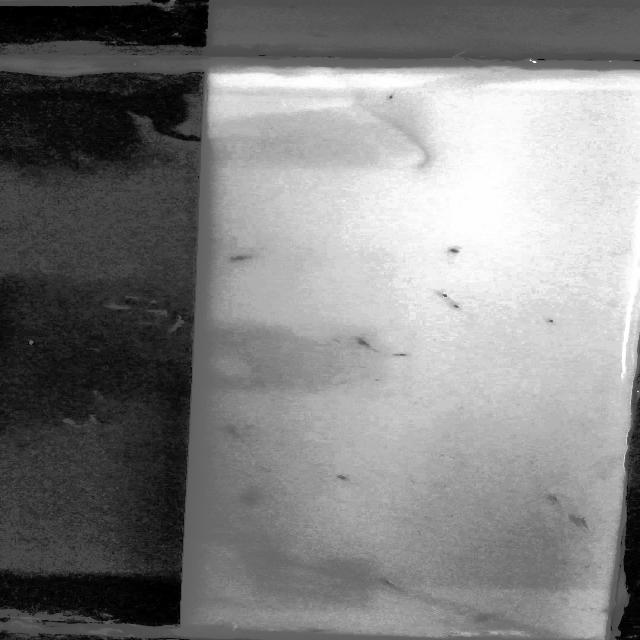shrimp: (442, 239, 477, 260), (380, 82, 409, 106), (441, 302, 479, 319), (356, 334, 387, 353), (368, 351, 426, 361), (548, 491, 574, 511), (216, 422, 250, 437), (221, 250, 263, 262), (549, 317, 577, 334), (232, 494, 270, 506), (470, 612, 502, 626), (305, 622, 337, 634), (436, 284, 457, 301), (574, 510, 590, 532), (374, 575, 400, 587), (330, 470, 352, 484)
